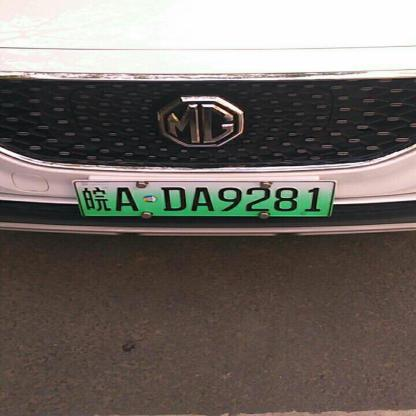lp: (73, 180, 334, 215)
